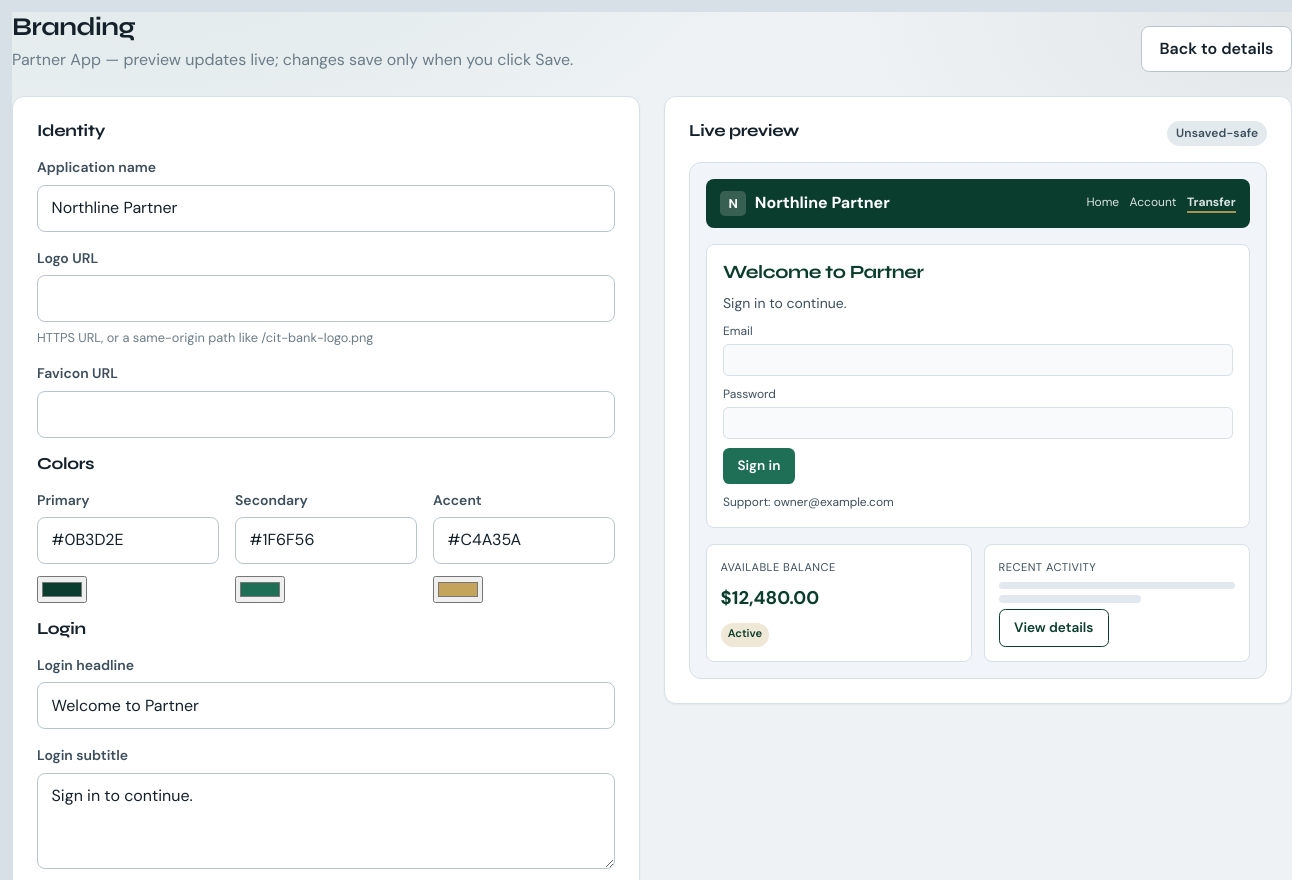
Master branding › loads branding form and updates live preview without saving
expect the field labelled "Application name" holds "Northline Partner": met, box x1=37 y1=185 x2=615 y2=232
expect the element named "Branding preview" shows "Welcome to Partner": met, box x1=723 y1=261 x2=924 y2=283
Clear the field labelled "Login headline". click: (326, 706)
box: x1=37 y1=682 x2=615 y2=729
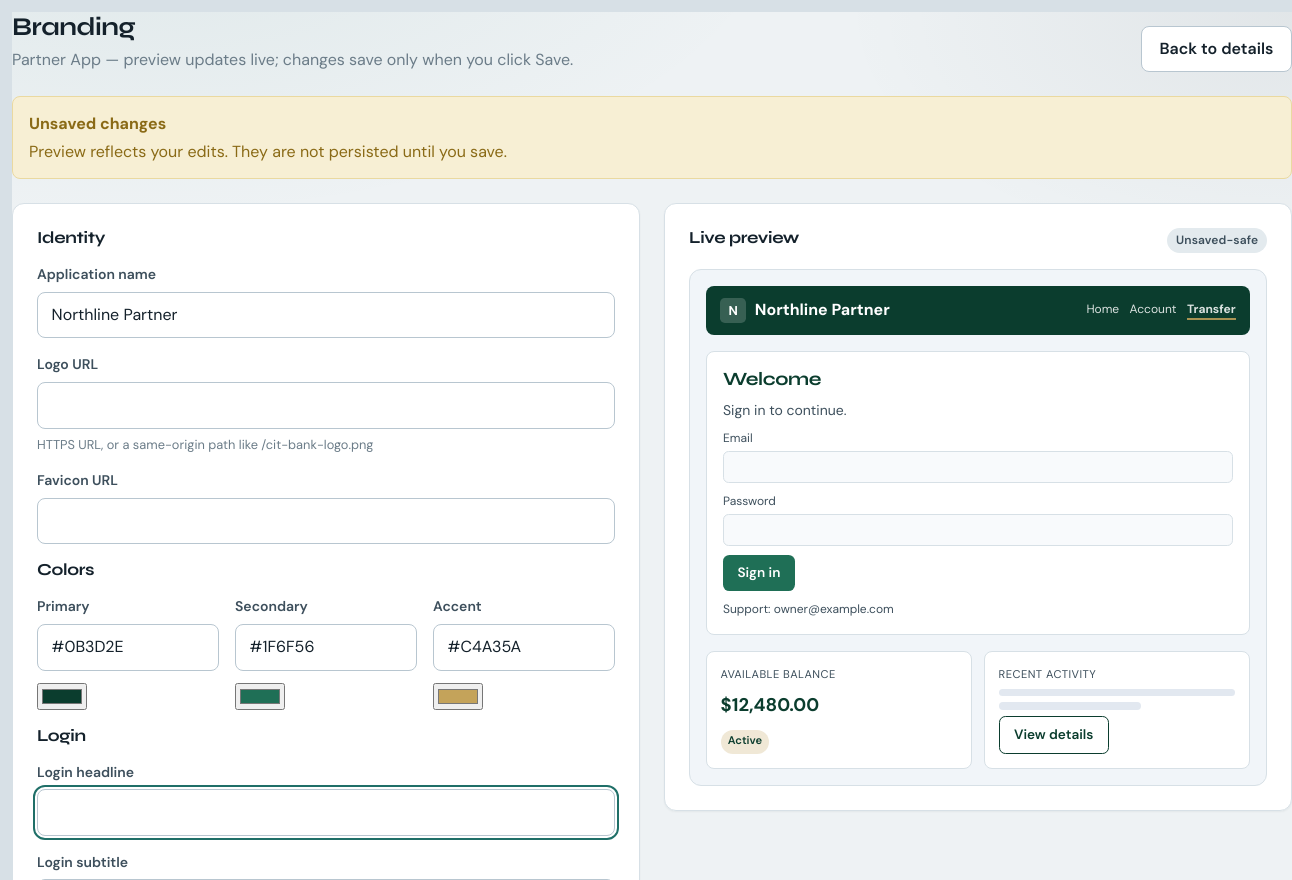
Type "Hello Contoso" into the field labelled "Login headline". click: (326, 813)
box: x1=37 y1=789 x2=615 y2=836
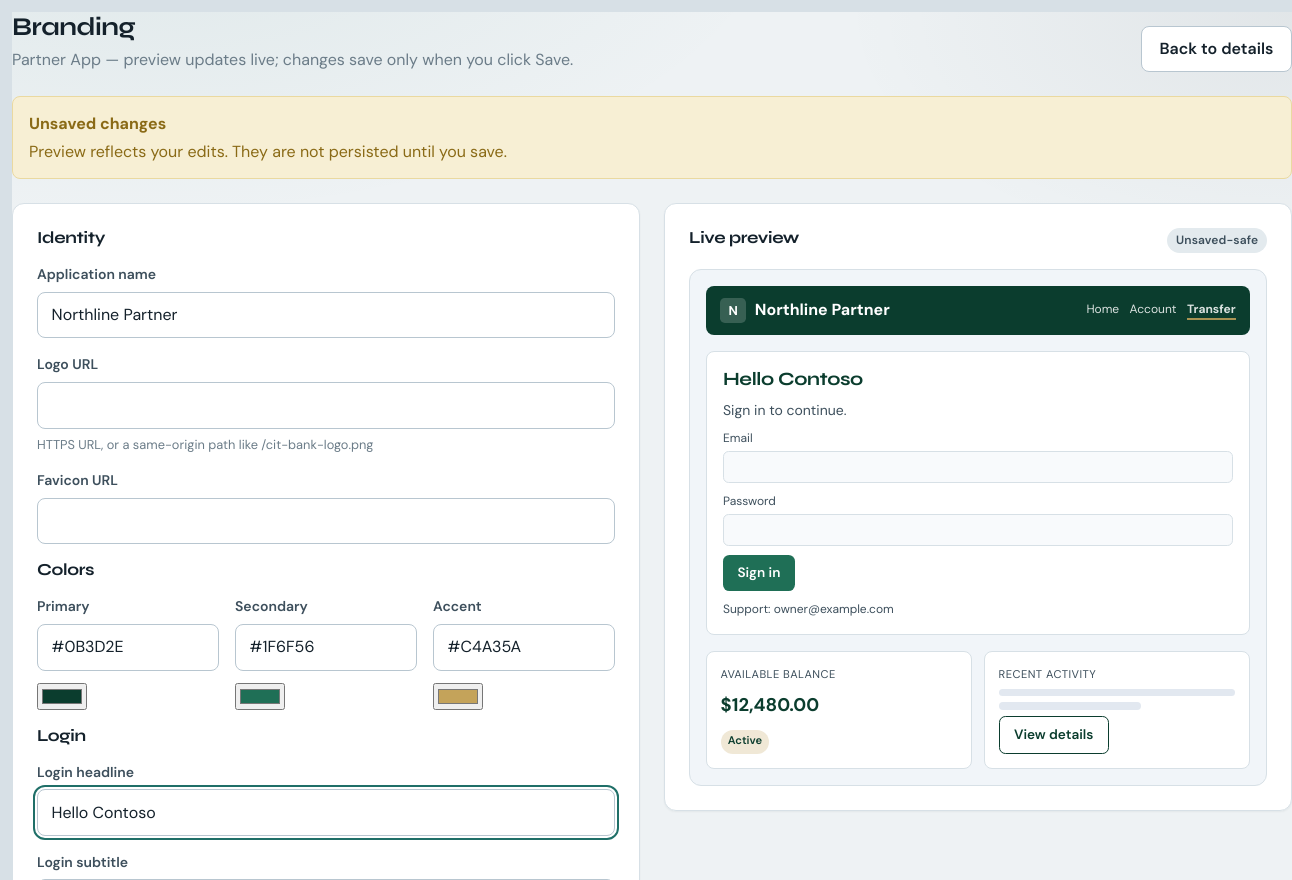
expect the element named "Branding preview" shows "Hello Contoso": met, box x1=723 y1=368 x2=863 y2=390
